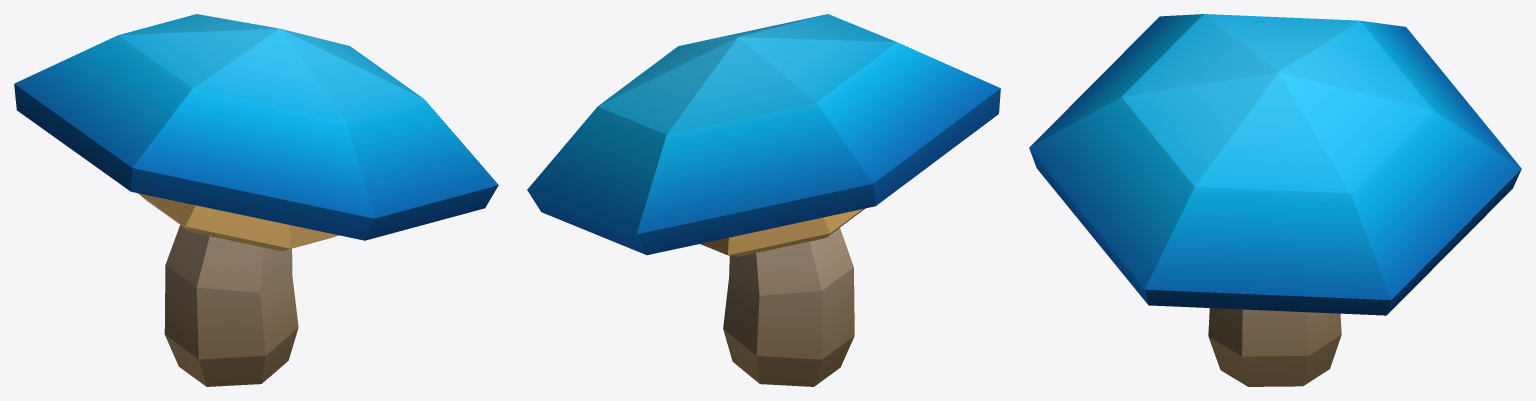
The model's file is Mushroom_Blue_02.fbx.
3 renders of one model, left to right at view 1: azimuth 30°, elevation 25°; view 2: azimuth 150°, elevation 25°; view 3: azimuth 270°, elevation 25°, orthographic.
Parts seen in each view (by area): view 1: Mushroom_Blue_02; view 2: Mushroom_Blue_02; view 3: Mushroom_Blue_02.
Boxes of the visible parts, box(x1,y1,x2,y2) form: Mushroom_Blue_02: box(14, 14, 498, 386); Mushroom_Blue_02: box(527, 14, 1000, 386); Mushroom_Blue_02: box(1029, 14, 1521, 386).
Bounding box in the file's own units: 35.97 × 30.64 × 42.27.
